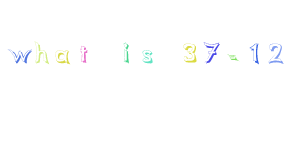-: (223, 49, 240, 69)
1: (243, 39, 265, 68)
2: (266, 40, 286, 67)
3: (180, 39, 198, 68)
7: (199, 39, 222, 69)
a: (53, 46, 72, 67)
h: (30, 38, 50, 66)
i: (116, 36, 135, 67)
s: (139, 43, 161, 70)
t: (75, 41, 92, 67)
w: (5, 39, 32, 64)
